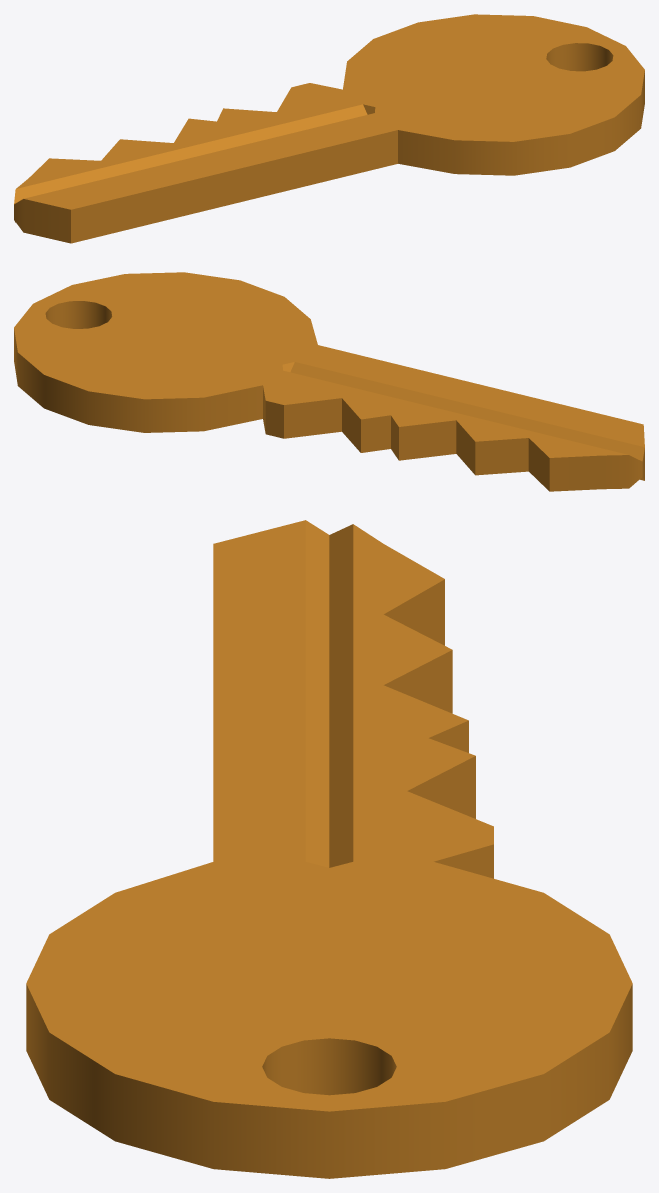
The model's file is key.obj.
3 renders of one model, top to bottom at view 1: azimuth 30°, elevation 25°; view 2: azimuth 150°, elevation 25°; view 3: azimuth 270°, elevation 25°, orthographic. The views are drawn at different scales.
Visible parts, largest first — view 1: Circle; view 2: Circle; view 3: Circle.
Boxes of the visible parts, box(x1,y1,x2,y2) form: Circle: box(14, 14, 644, 243); Circle: box(14, 272, 644, 491); Circle: box(26, 520, 632, 1178).
Bounding box in the file's own units: 4.64 × 0.2449 × 2.
